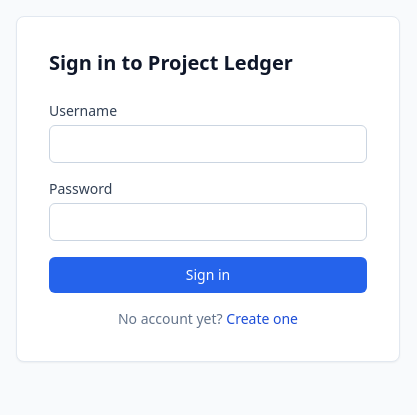
Login page › shows an error message when login fails
This screenshot has width=417, height=415.
Type "carol" into the field labelled "Username" at [208, 144], box [49,125,367,163]
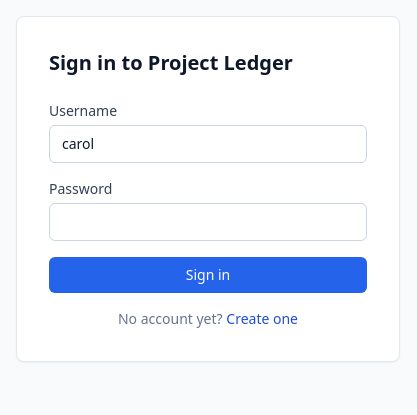
Type "wrong" into the password field labelled "Password" at [208, 222], box [49,203,367,241]
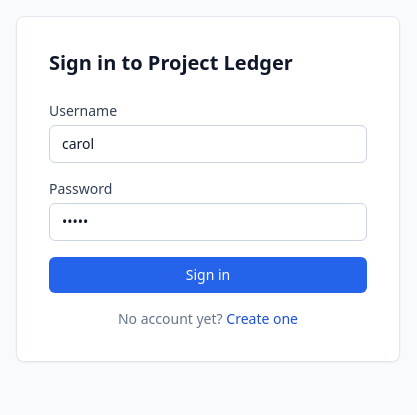
Click the button "Sign in" at [208, 275], box [49,257,367,293]
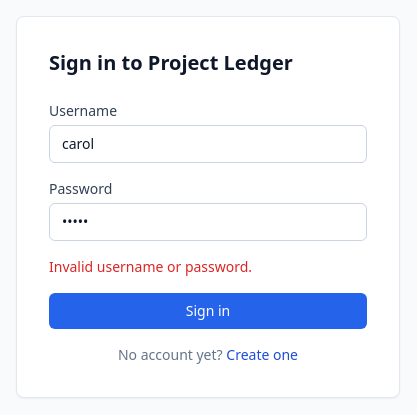
Expected: the message shows "Invalid username or password", [49,257,252,276]
